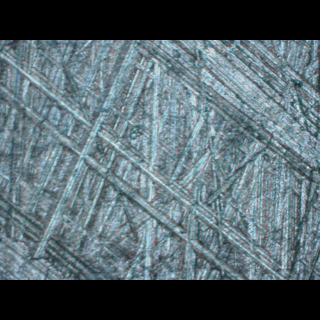d: (128, 40, 320, 186), (28, 44, 140, 260)
